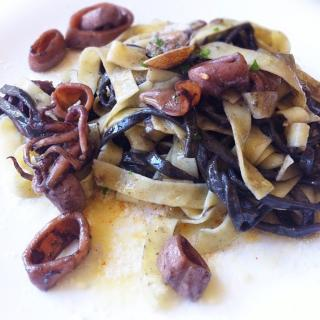Pasta: (7, 0, 320, 313)
